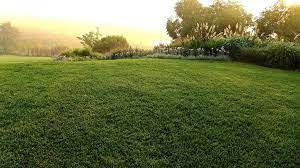grass: (1, 63, 300, 168)
